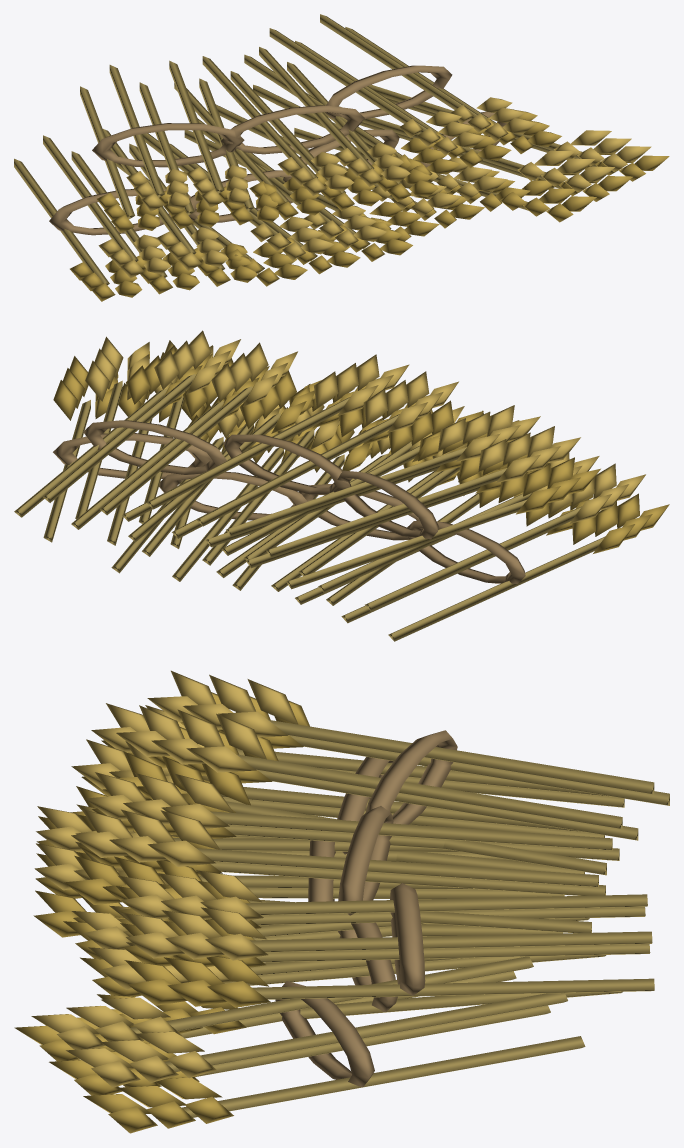
The model's file is pile-rice-7.gltf.
3 renders of one model, top to bottom at view 1: azimuth 30°, elevation 25°; view 2: azimuth 150°, elevation 25°; view 3: azimuth 270°, elevation 25°, orthographic. The views are drawn at different scales.
Visible parts, largest first — view 1: pile-rice-7; view 2: pile-rice-7; view 3: pile-rice-7.
Part boxes in pixels (x1,y1,x2,y2): pile-rice-7: [14, 14, 669, 301]; pile-rice-7: [14, 330, 669, 641]; pile-rice-7: [14, 670, 669, 1133].
Bounding box in the file's own units: 0.7921 × 0.1212 × 0.5467.
